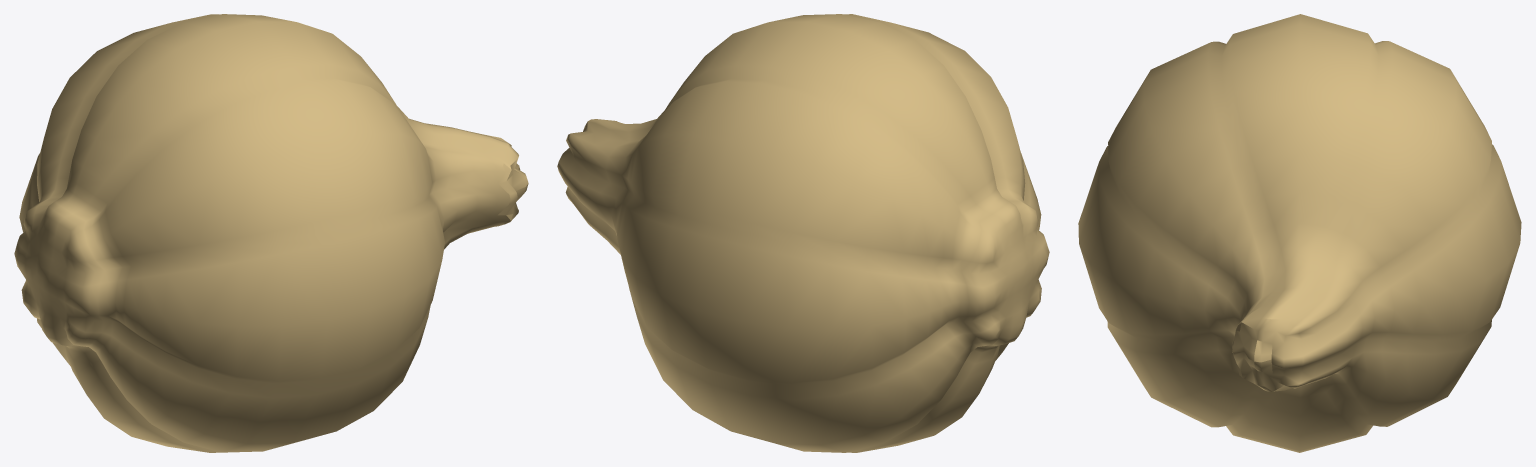
The model's file is Onion_ing.fbx.
3 views of the same model, side by side, from view 1: azimuth 30°, elevation 25°; view 2: azimuth 150°, elevation 25°; view 3: azimuth 270°, elevation 25° (orthographic). The views are drawn at different scales.
Parts seen in each view (by area): view 1: Onion1; view 2: Onion1; view 3: Onion1.
Part boxes in pixels (bbox=[...]): Onion1: bbox=[14, 14, 528, 452]; Onion1: bbox=[557, 14, 1049, 452]; Onion1: bbox=[1078, 14, 1521, 452].
Bounding box in the file's own units: 68.71 × 57.53 × 57.55.
